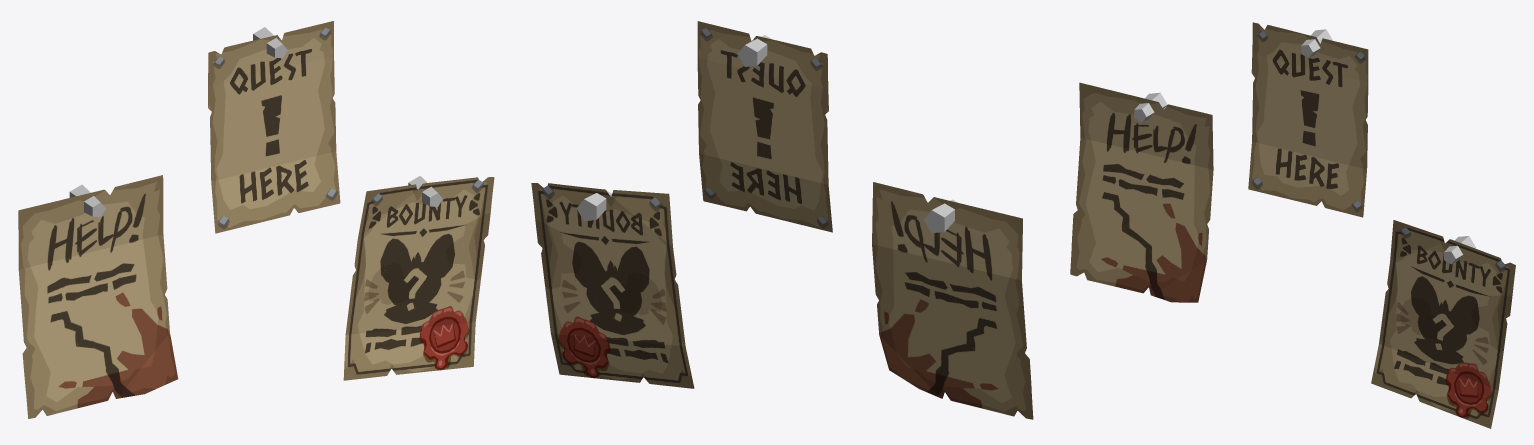
The model's file is SM_Prop_Quest_Board_01_Insert_01.fbx.
3 views of the same model, side by side, from view 1: azimuth 30°, elevation 25°; view 2: azimuth 150°, elevation 25°; view 3: azimuth 330°, elevation 25° (orthographic). The views are drawn at different scales.
Parts seen in each view (by area): view 1: SM_Prop_Quest_Board_01_Insert_01; view 2: SM_Prop_Quest_Board_01_Insert_01; view 3: SM_Prop_Quest_Board_01_Insert_01.
Boxes of the visible parts, x1,y1,x2,y2 form: SM_Prop_Quest_Board_01_Insert_01: (18, 21, 494, 418); SM_Prop_Quest_Board_01_Insert_01: (531, 21, 1033, 419); SM_Prop_Quest_Board_01_Insert_01: (1070, 22, 1515, 428).
Size of the model in its own units: 123 by 93.87 by 12.36.
